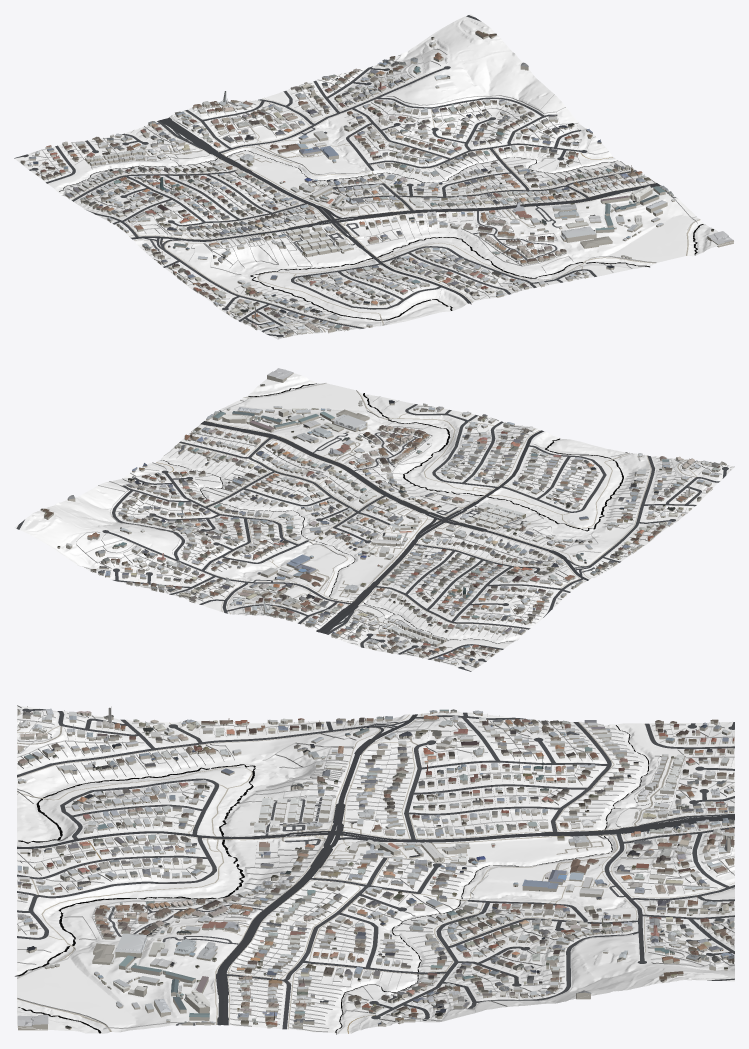
3 views of the same model, one above another, from view 1: azimuth 30°, elevation 25°; view 2: azimuth 150°, elevation 25°; view 3: azimuth 270°, elevation 25° (orthographic). The views are drawn at different scales.
Parts seen in each view (by area): view 1: terrain, building_roofs, building_walls, roads, fences, water, kerbs; view 2: terrain, building_roofs, building_walls, roads, fences, kerbs, water; view 3: terrain, building_roofs, building_walls, roads, fences, kerbs, water.
Boxes of the visible parts, left/top/right/bottom form: terrain: left=15, top=14, right=734, bottom=339; building_roofs: left=21, top=30, right=733, bottom=335; building_walls: left=20, top=32, right=733, bottom=337; roads: left=14, top=15, right=700, bottom=337; fences: left=20, top=48, right=697, bottom=338; water: left=59, top=150, right=703, bottom=320; kerbs: left=29, top=66, right=655, bottom=335; terrain: left=14, top=373, right=734, bottom=671; building_roofs: left=41, top=368, right=726, bottom=665; building_walls: left=40, top=373, right=726, bottom=667; roads: left=16, top=383, right=728, bottom=671; fences: left=76, top=383, right=734, bottom=667; kerbs: left=17, top=408, right=728, bottom=668; water: left=161, top=383, right=623, bottom=643; terrain: left=17, top=706, right=734, bottom=1034; building_roofs: left=17, top=706, right=734, bottom=1028; building_walls: left=17, top=710, right=734, bottom=1030; roads: left=17, top=708, right=734, bottom=1033; fences: left=17, top=705, right=734, bottom=1032; kerbs: left=17, top=708, right=734, bottom=1028; water: left=15, top=725, right=671, bottom=1034.
Bounding box in the file's own units: 1200 × 114 × 1205.
